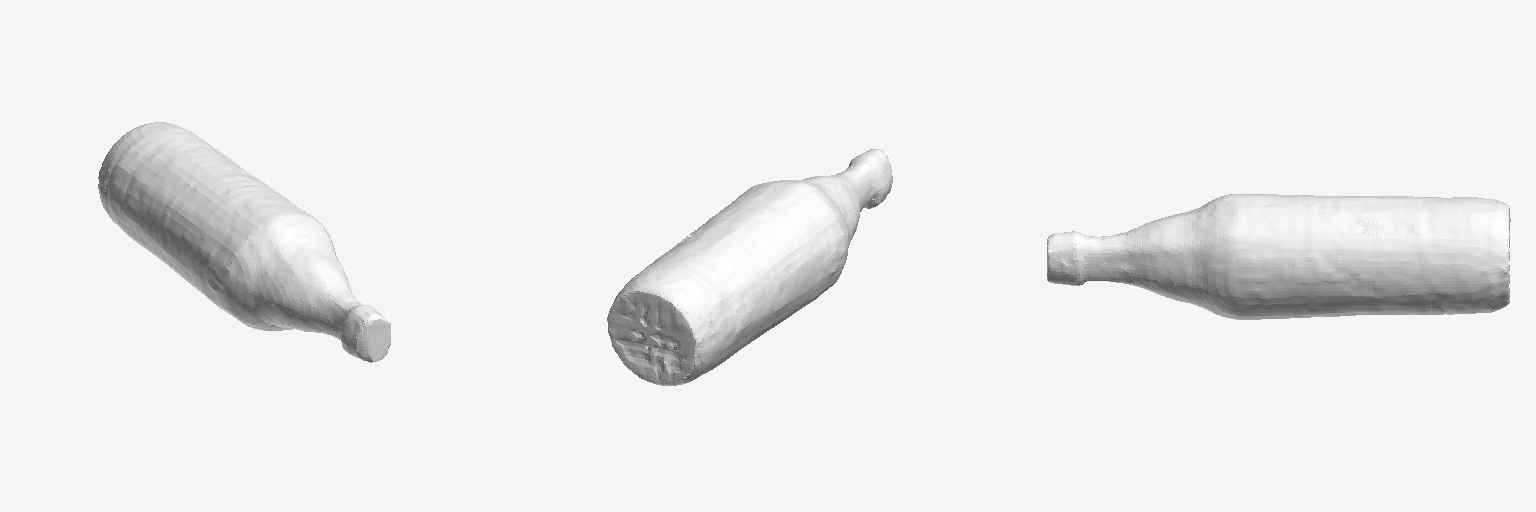
The model's file is mate_bottle.obj.
3 renders of one model, left to right at view 1: azimuth 30°, elevation 25°; view 2: azimuth 150°, elevation 25°; view 3: azimuth 270°, elevation 25°, orthographic.
Size of the model in its own units: 0.5482 by 0.5347 by 1.99.